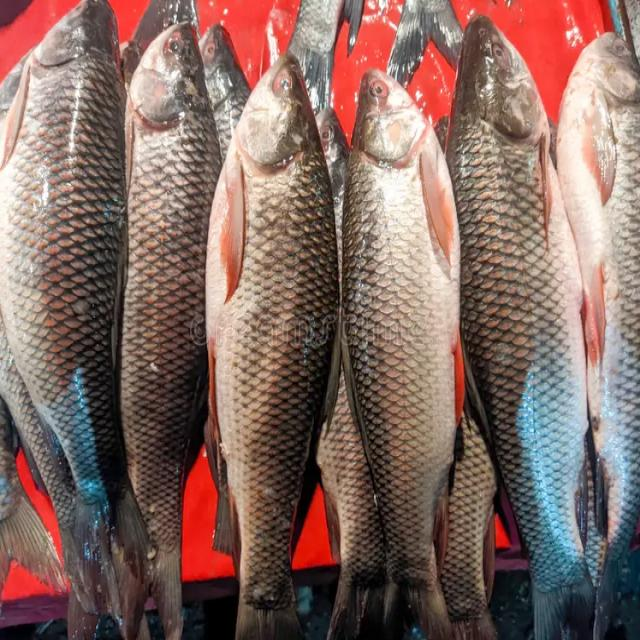Rohu: (205, 53, 343, 640), (340, 67, 465, 640)
